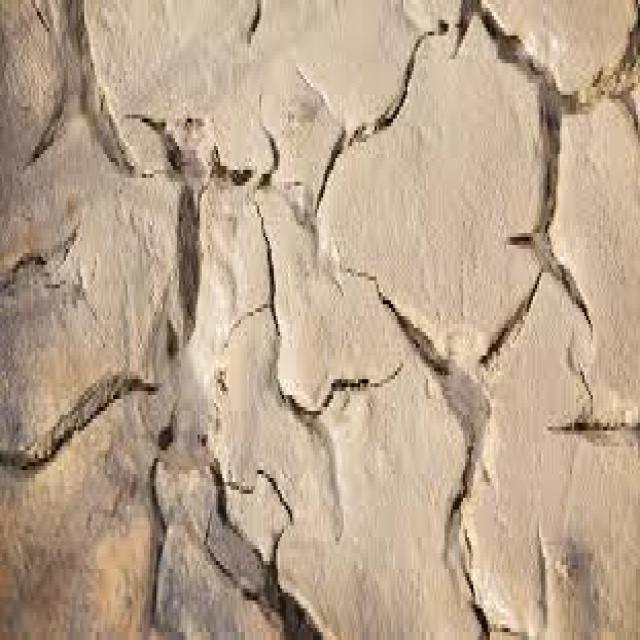Clay Soil: (66, 58, 569, 526)
